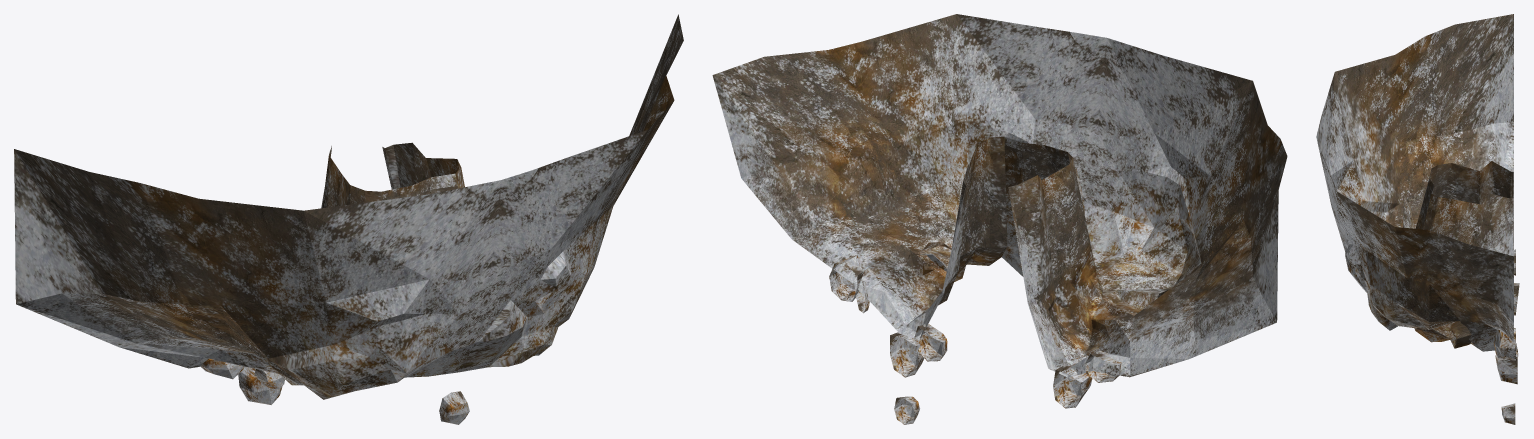
The model's file is zhanchang_fuben_194_dongkou_01.obj.
3 renders of one model, left to right at view 1: azimuth 30°, elevation 25°; view 2: azimuth 150°, elevation 25°; view 3: azimuth 270°, elevation 25°, orthographic. The views are drawn at different scales.
Parts seen in each view (by area): view 1: zhanchang_fuben_194_dongkou_01; view 2: zhanchang_fuben_194_dongkou_01; view 3: zhanchang_fuben_194_dongkou_01.
Boxes of the visible parts, x1,y1,x2,y2 form: zhanchang_fuben_194_dongkou_01: (14, 14, 683, 424); zhanchang_fuben_194_dongkou_01: (712, 14, 1287, 424); zhanchang_fuben_194_dongkou_01: (1316, 14, 1519, 424).
Bounding box in the file's own units: 1021 × 561 × 392.
1 material, 1 textured.
